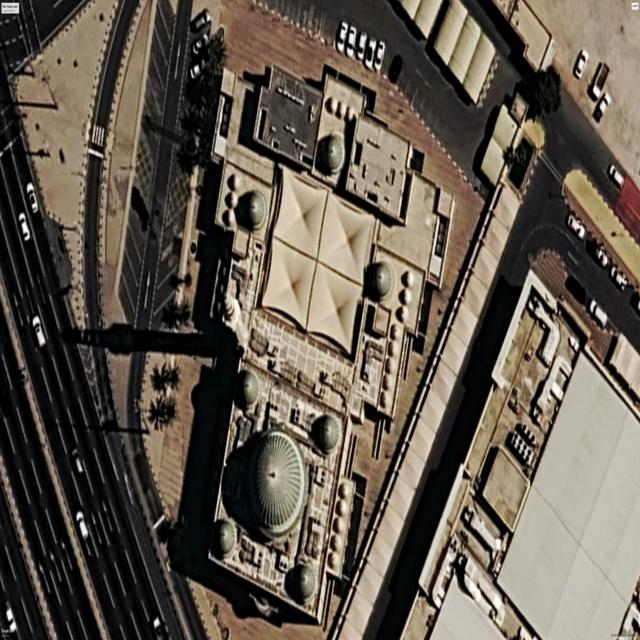mosque: (209, 66, 455, 624)
